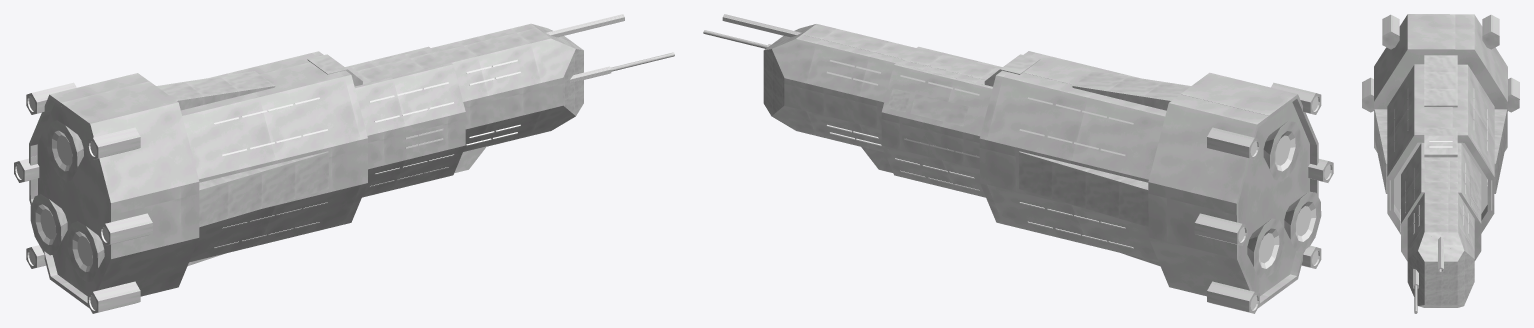
File: RisenHominis.fbx
3 views of the same model, side by side, from view 1: azimuth 30°, elevation 25°; view 2: azimuth 150°, elevation 25°; view 3: azimuth 270°, elevation 25° (orthographic). The views are drawn at different scales.
Parts seen in each view (by area): view 1: node_id13 (×2), node_id4 (×2), node_id10 (×2), node_id7 (×2); view 2: node_id13 (×2), node_id7 (×2), node_id4 (×2), node_id10 (×2); view 3: node_id13 (×3).
Part boxes in pixels (left/top/right/bottom): node_id13 (×2): left=14, top=14, right=674, bottom=313; node_id4 (×2): left=67, top=221, right=104, bottom=282; node_id10 (×2): left=30, top=194, right=67, bottom=255; node_id7 (×2): left=47, top=120, right=83, bottom=181; node_id13 (×2): left=703, top=14, right=1333, bottom=313; node_id7 (×2): left=1263, top=121, right=1300, bottom=181; node_id4 (×2): left=1284, top=191, right=1321, bottom=251; node_id10 (×2): left=1247, top=218, right=1284, bottom=278; node_id13 (×3): left=1362, top=14, right=1519, bottom=313.
Bounding box in the file's own units: 0.512 × 0.1518 × 0.1433.
9 materials, 8 textured.
